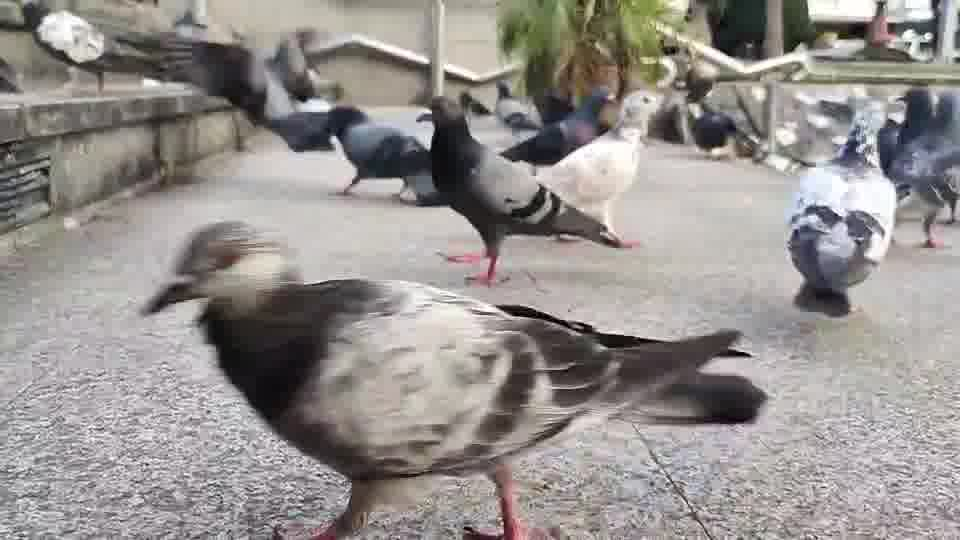Pigeon: (139, 218, 767, 538), (413, 93, 626, 289), (504, 91, 657, 248), (784, 118, 897, 309), (876, 85, 959, 248), (323, 105, 432, 202), (690, 109, 765, 161)
